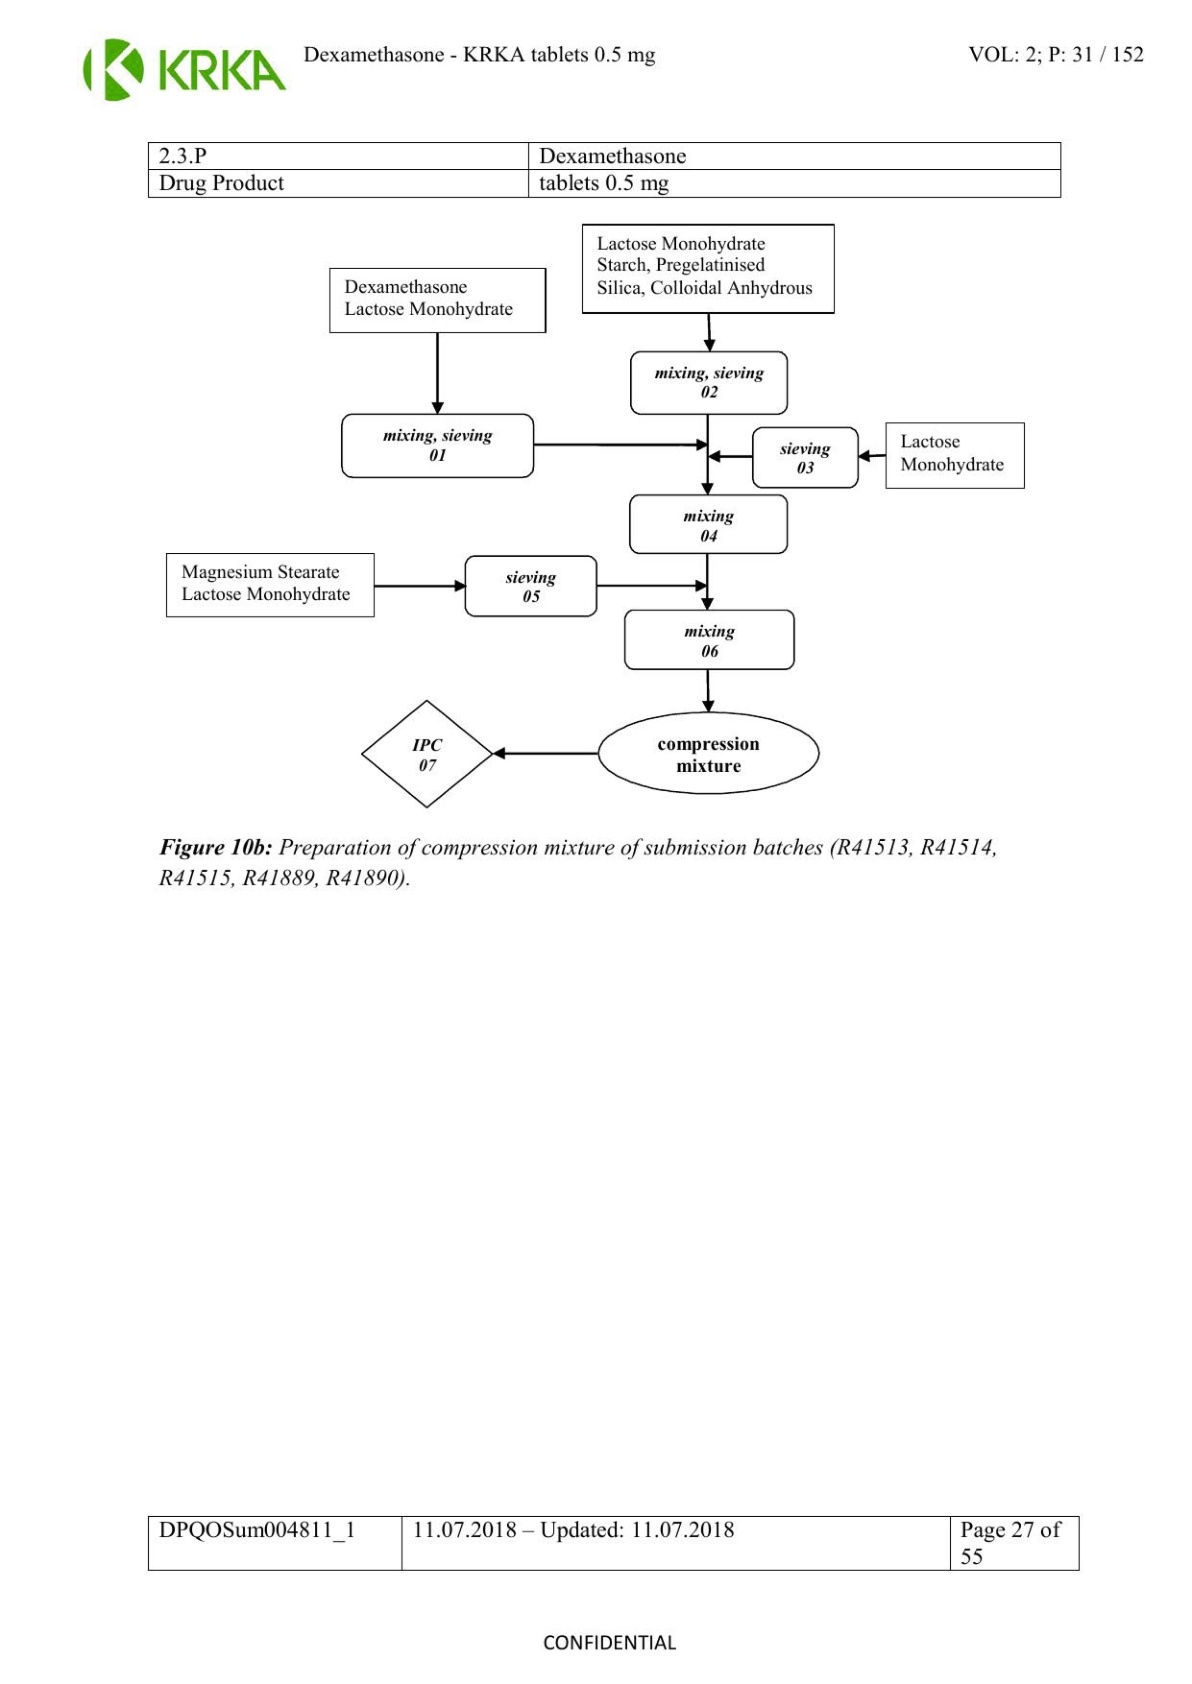full_lined: (146, 142, 1063, 199), (147, 1516, 1080, 1571)
